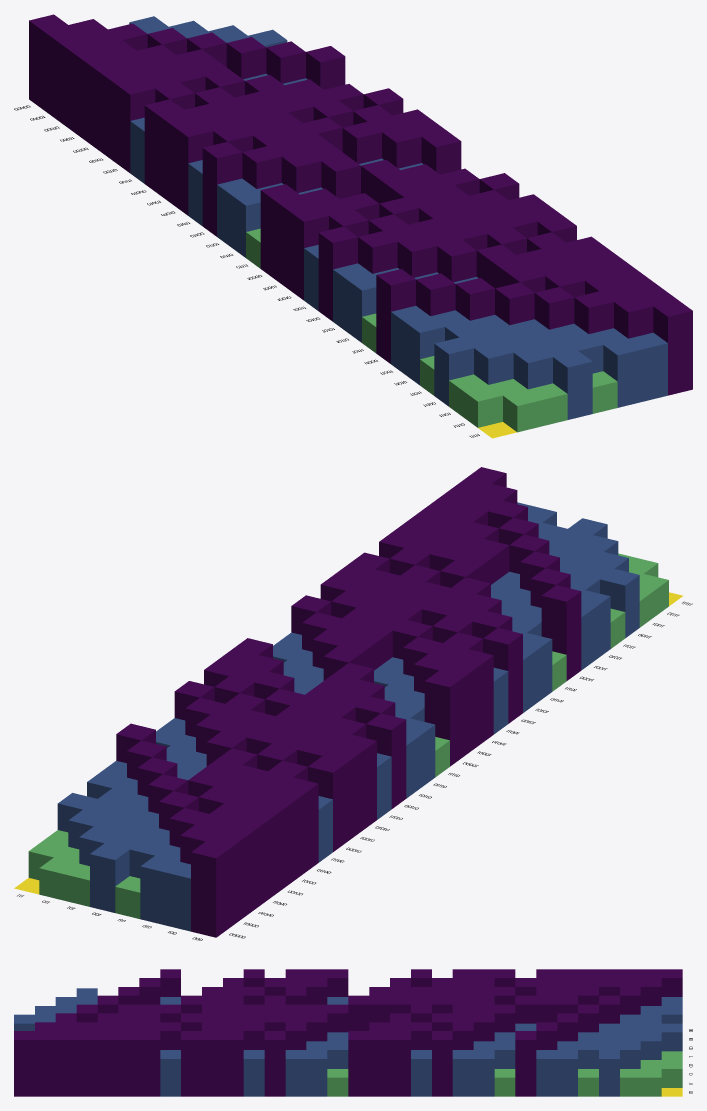
3 renders of one model, top to bottom at view 1: azimuth 30°, elevation 25°; view 2: azimuth 150°, elevation 25°; view 3: azimuth 270°, elevation 25°, orthographic. The views are drawn at different scales.
Visible parts, largest first — view 1: Object(8,32)[length_3], Object(1,13)[length_3], Object(1,25)[length_3], Object(1,21)[length_3], Object(1,7)[length_3], Object(1,11)[length_3], Object(4,32)[length_2], Object(6,32)[length_2], Object(1,19)[length_3], Object(1,29)[length_2], Object(7,32)[length_2], Object(1,27)[length_2] (+65 smaller); view 2: Object(1,1)[length_3], Object(1,25)[length_3], Object(1,17)[length_3], Object(1,13)[length_3], Object(5,1)[length_2], Object(1,9)[length_3], Object(1,21)[length_3], Object(3,1)[length_2], Object(1,29)[length_2], Object(1,5)[length_3], Object(1,10)[length_3], Object(1,18)[length_3] (+59 smaller); view 3: Object(8,8)[length_3], Object(8,16)[length_3], Object(8,20)[length_3], Object(8,26)[length_3], Object(8,27)[length_3], Object(8,28)[length_3], Object(8,29)[length_3], Object(8,30)[length_3], Object(8,12)[length_3], Object(8,14)[length_3], Object(8,15)[length_3], Object(8,22)[length_3] (+74 smaller).
Boxes of the visible parts, <box> form: Object(8,32)[length_3]: <box>653,300,692,395</box>; Object(1,13)[length_3]: <box>202,141,242,236</box>; Object(1,25)[length_3]: <box>376,269,415,363</box>; Object(1,21)[length_3]: <box>318,226,357,321</box>; Object(1,7)[length_3]: <box>115,78,155,172</box>; Object(1,11)[length_3]: <box>173,120,213,215</box>; Object(4,32)[length_2]: <box>553,351,592,419</box>; Object(6,32)[length_2]: <box>603,339,642,407</box>; Object(1,19)[length_3]: <box>289,205,328,300</box>; Object(1,29)[length_2]: <box>434,337,473,406</box>; Object(7,32)[length_2]: <box>628,332,667,401</box>; Object(1,27)[length_2]: <box>405,316,444,385</box>; Object(1,1)[length_3]: <box>191,841,230,937</box>; Object(1,25)[length_3]: <box>541,585,581,680</box>; Object(1,17)[length_3]: <box>424,670,464,766</box>; Object(1,13)[length_3]: <box>366,713,406,808</box>; Object(5,1)[length_2]: <box>90,843,129,912</box>; Object(1,9)[length_3]: <box>308,756,347,851</box>; Object(1,21)[length_3]: <box>483,628,522,723</box>; Object(3,1)[length_2]: <box>140,855,179,925</box>; Object(1,29)[length_2]: <box>600,568,639,637</box>; Object(1,5)[length_3]: <box>249,799,289,894</box>; Object(1,10)[length_3]: <box>323,745,362,841</box>; Object(1,18)[length_3]: <box>439,660,479,755</box>; Object(8,8)[length_3]: <box>515,1031,536,1096</box>; Object(8,16)[length_3]: <box>348,1031,369,1096</box>; Object(8,20)[length_3]: <box>264,1031,285,1096</box>; Object(8,26)[length_3]: <box>139,1031,160,1096</box>; Object(8,27)[length_3]: <box>118,1031,139,1096</box>; Object(8,28)[length_3]: <box>97,1031,118,1096</box>; Object(8,29)[length_3]: <box>76,1031,97,1096</box>; Object(8,30)[length_3]: <box>55,1031,76,1096</box>; Object(8,12)[length_3]: <box>432,1031,452,1096</box>; Object(8,14)[length_3]: <box>390,1031,410,1096</box>; Object(8,15)[length_3]: <box>369,1031,389,1096</box>; Object(8,22)[length_3]: <box>223,1031,243,1096</box>.
Size of the model in its own units: 8.85 by 3 by 32.5.
